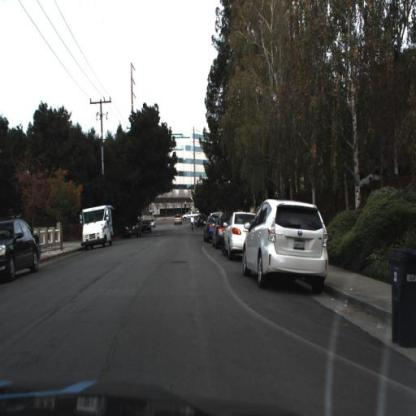biker: (191, 217, 196, 233)
car: (241, 199, 333, 293), (1, 218, 42, 286), (79, 205, 115, 254), (223, 213, 258, 263), (214, 212, 228, 253), (122, 216, 144, 239), (124, 217, 142, 239), (183, 211, 199, 224), (141, 219, 152, 234), (174, 215, 185, 225)
truck: (83, 207, 115, 248)
